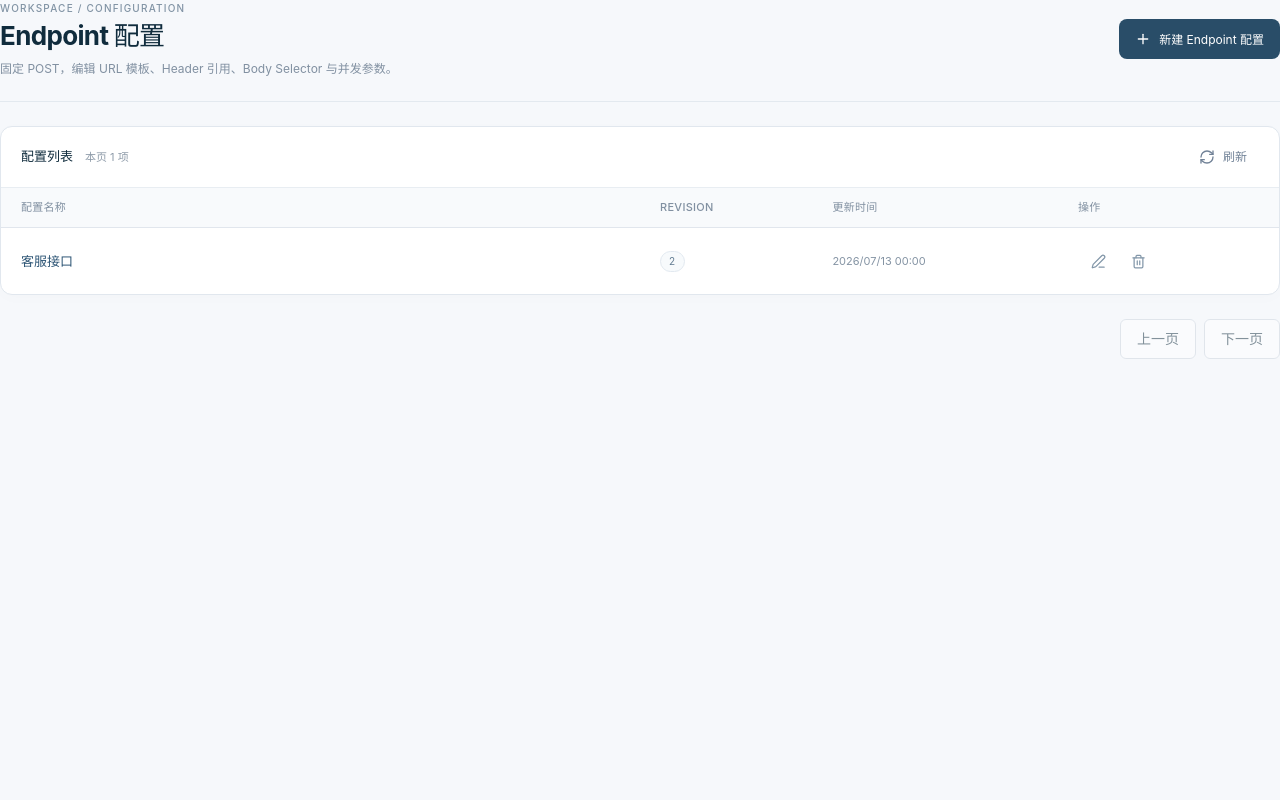
Test: 配置资源页面 › 普通配置删除成功后关闭确认框并刷新列表
What coordinates should you click on to do the following:
click the button named "删除 客服接口"
I would click on:
 (1138, 261)
Its box is [1119,245,1158,277].
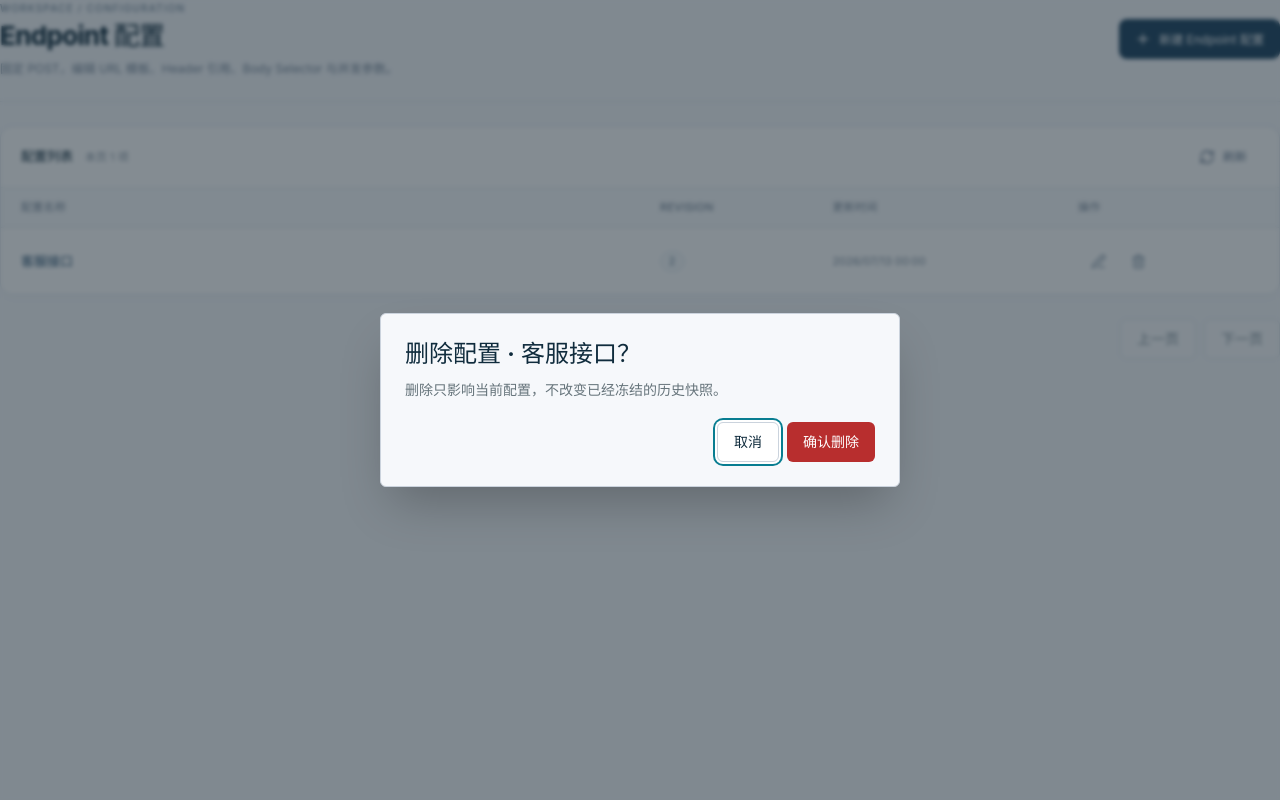
What coordinates should you click on to do the following:
click the button "确认删除"
I would click on:
 (831, 442)
Its box is [787,422,875,462].
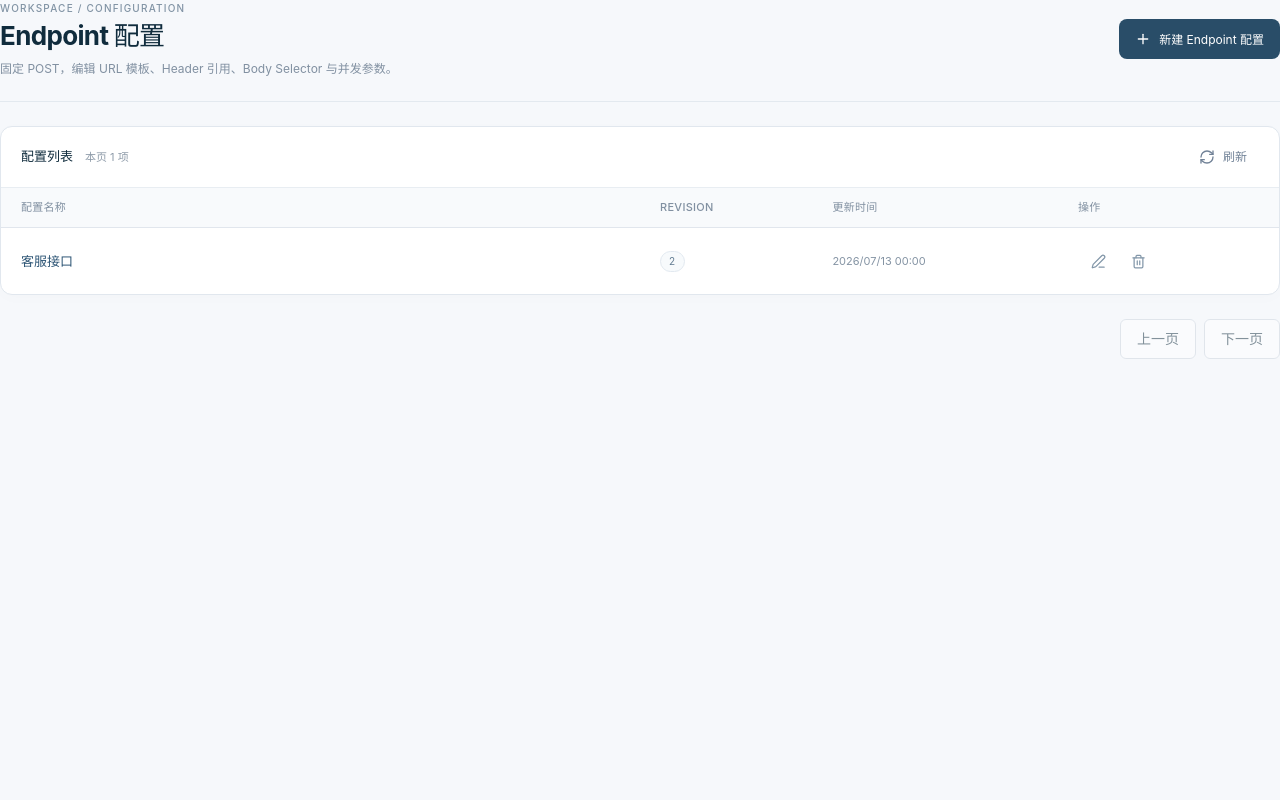
Expected: the heading "删除配置 · 客服接口？" is gone
